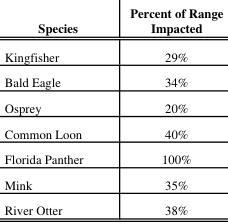table: (3, 3, 222, 217)
table column: (105, 3, 222, 217), (3, 3, 105, 217)
table column header: (3, 3, 222, 42)
table row: (3, 3, 222, 42), (3, 42, 222, 68), (3, 68, 222, 94), (3, 119, 222, 145), (3, 145, 222, 171), (3, 94, 222, 119), (3, 171, 222, 196), (3, 196, 222, 217)
